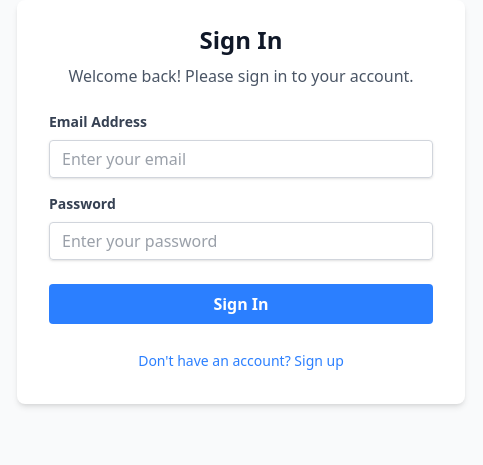
Scenario: LoginForm › validates email format
Step 1. Type "invalid-email" into the field labelled "Email Address" → (241, 159), box [49, 140, 433, 178]
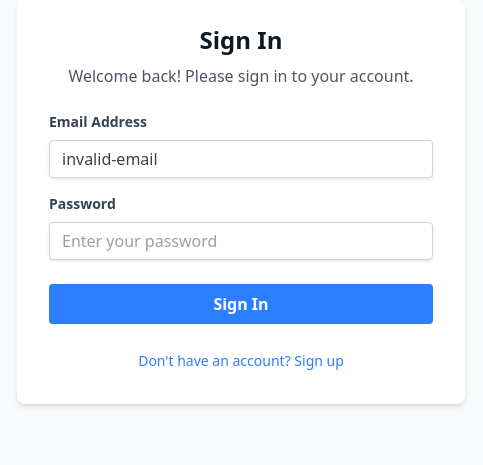
Step 2. Click the button "Sign In" → (241, 304), box [49, 284, 433, 324]
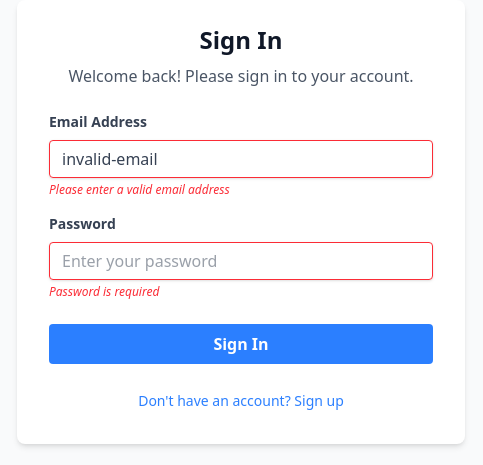
Check: the text "Please enter a valid email address" is shown, box [49, 181, 230, 198]
